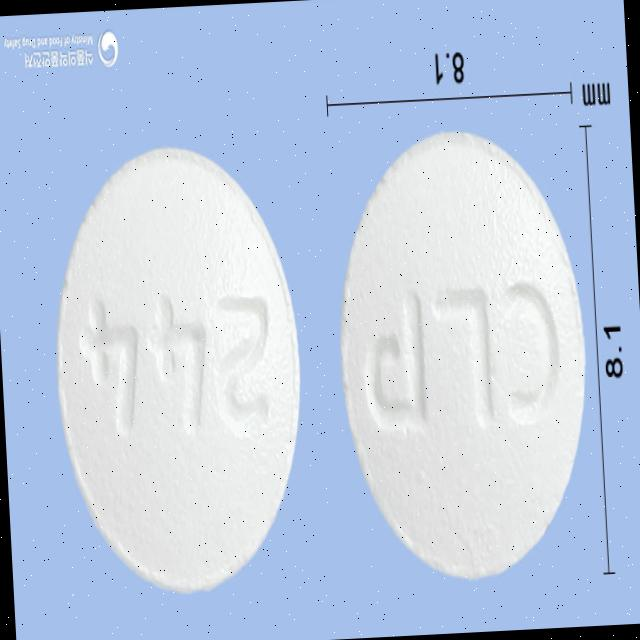Celltrion Levofloxacin: (324, 116, 601, 591), (41, 132, 314, 606)
